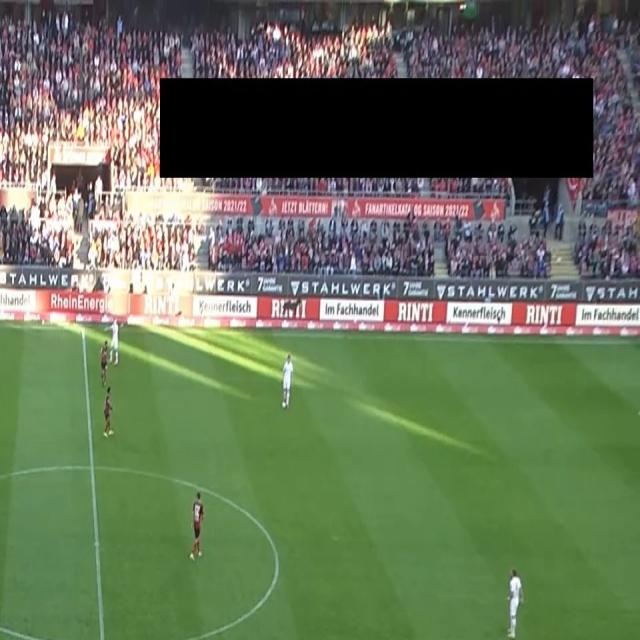ball: (281, 399, 287, 409)
